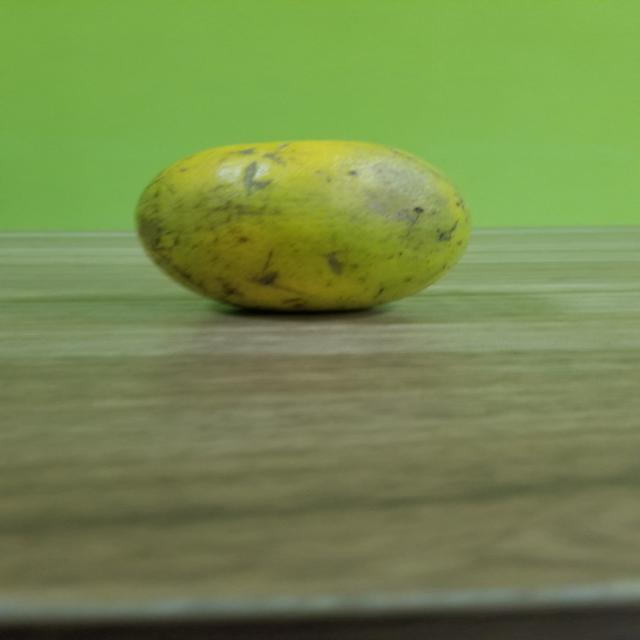Ripe orange: (121, 135, 483, 313)
